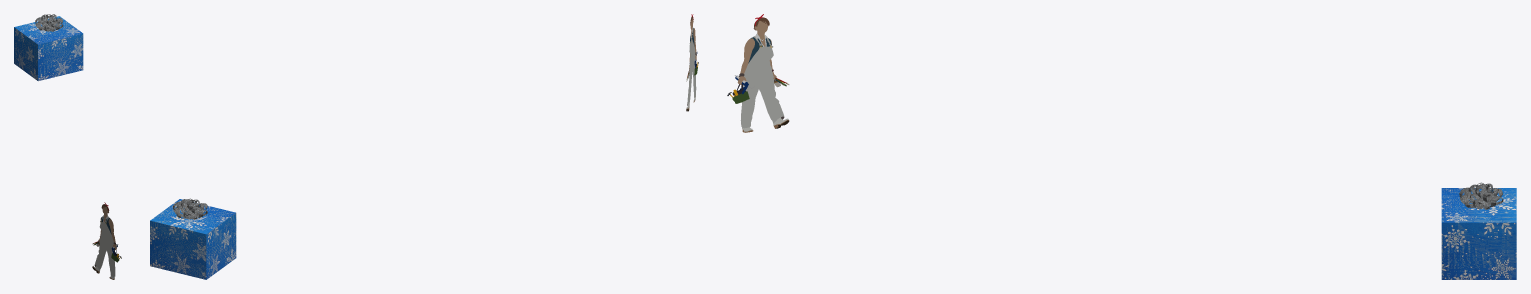
3 renders of one model, left to right at view 1: azimuth 30°, elevation 25°; view 2: azimuth 150°, elevation 25°; view 3: azimuth 270°, elevation 25°, orthographic. The views are drawn at different scales.
Parts seen in each view (by area): view 1: group_0, Lisanne (×2); view 2: group_0, Lisanne; view 3: group_0, Lisanne.
Boxes of the visible parts, x1=… form: group_0: x1=14, y1=16, x2=83, y2=81; Lisanne (×2): x1=94, y1=219, x2=115, y2=276; group_0: x1=150, y1=199, x2=236, y2=279; Lisanne: x1=687, y1=39, x2=696, y2=104; group_0: x1=1441, y1=188, x2=1516, y2=279; Lisanne: x1=740, y1=46, x2=784, y2=128.
Size of the model in its own units: 187 by 410 by 66.88.
34 materials, 1 textured.
